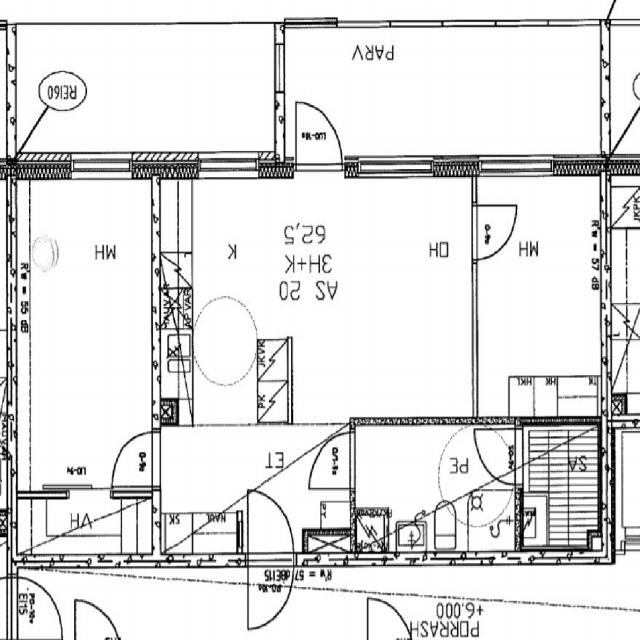door: (296, 100, 342, 179), (248, 550, 294, 628), (248, 489, 294, 566), (474, 429, 522, 483), (112, 433, 160, 486), (309, 434, 355, 488), (472, 205, 517, 260)
